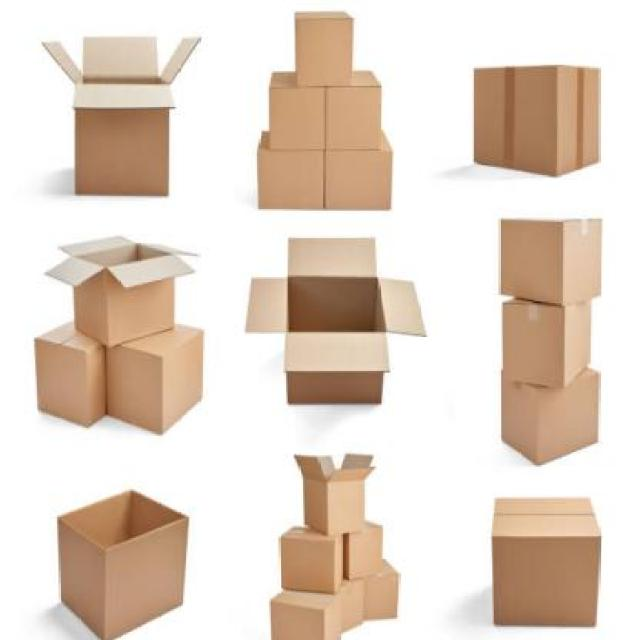box: (240, 218, 449, 419), (34, 9, 214, 224), (45, 486, 200, 640), (42, 209, 208, 350), (467, 45, 618, 192), (483, 476, 603, 640), (112, 336, 220, 450), (492, 206, 614, 303), (497, 281, 598, 398), (497, 364, 608, 467), (293, 436, 389, 543), (20, 323, 111, 430), (323, 125, 397, 218), (287, 8, 362, 88), (263, 580, 360, 640), (254, 127, 320, 213), (275, 520, 350, 591), (266, 69, 325, 148), (343, 563, 411, 626), (323, 72, 382, 143), (338, 519, 405, 580)
